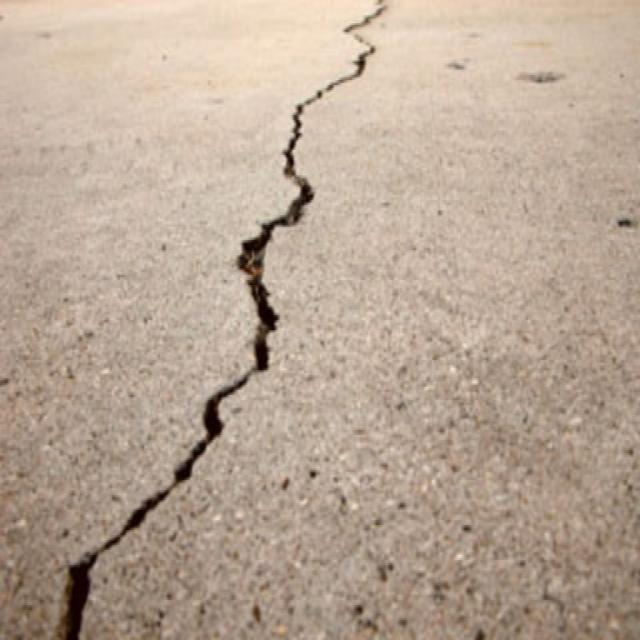Longitudinal: (46, 0, 401, 640)
